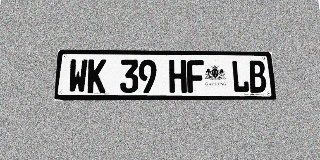3: (120, 59, 138, 93)
9: (139, 60, 156, 93)
B: (248, 60, 267, 93)
F: (187, 60, 205, 93)
H: (169, 60, 187, 93)
K: (87, 59, 106, 93)
L: (231, 60, 250, 93)
W: (68, 59, 88, 93)
